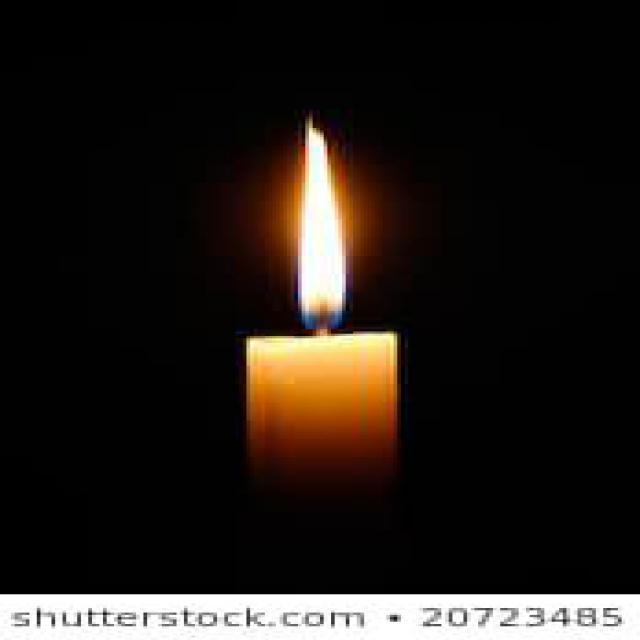Fire: (292, 116, 358, 330)
